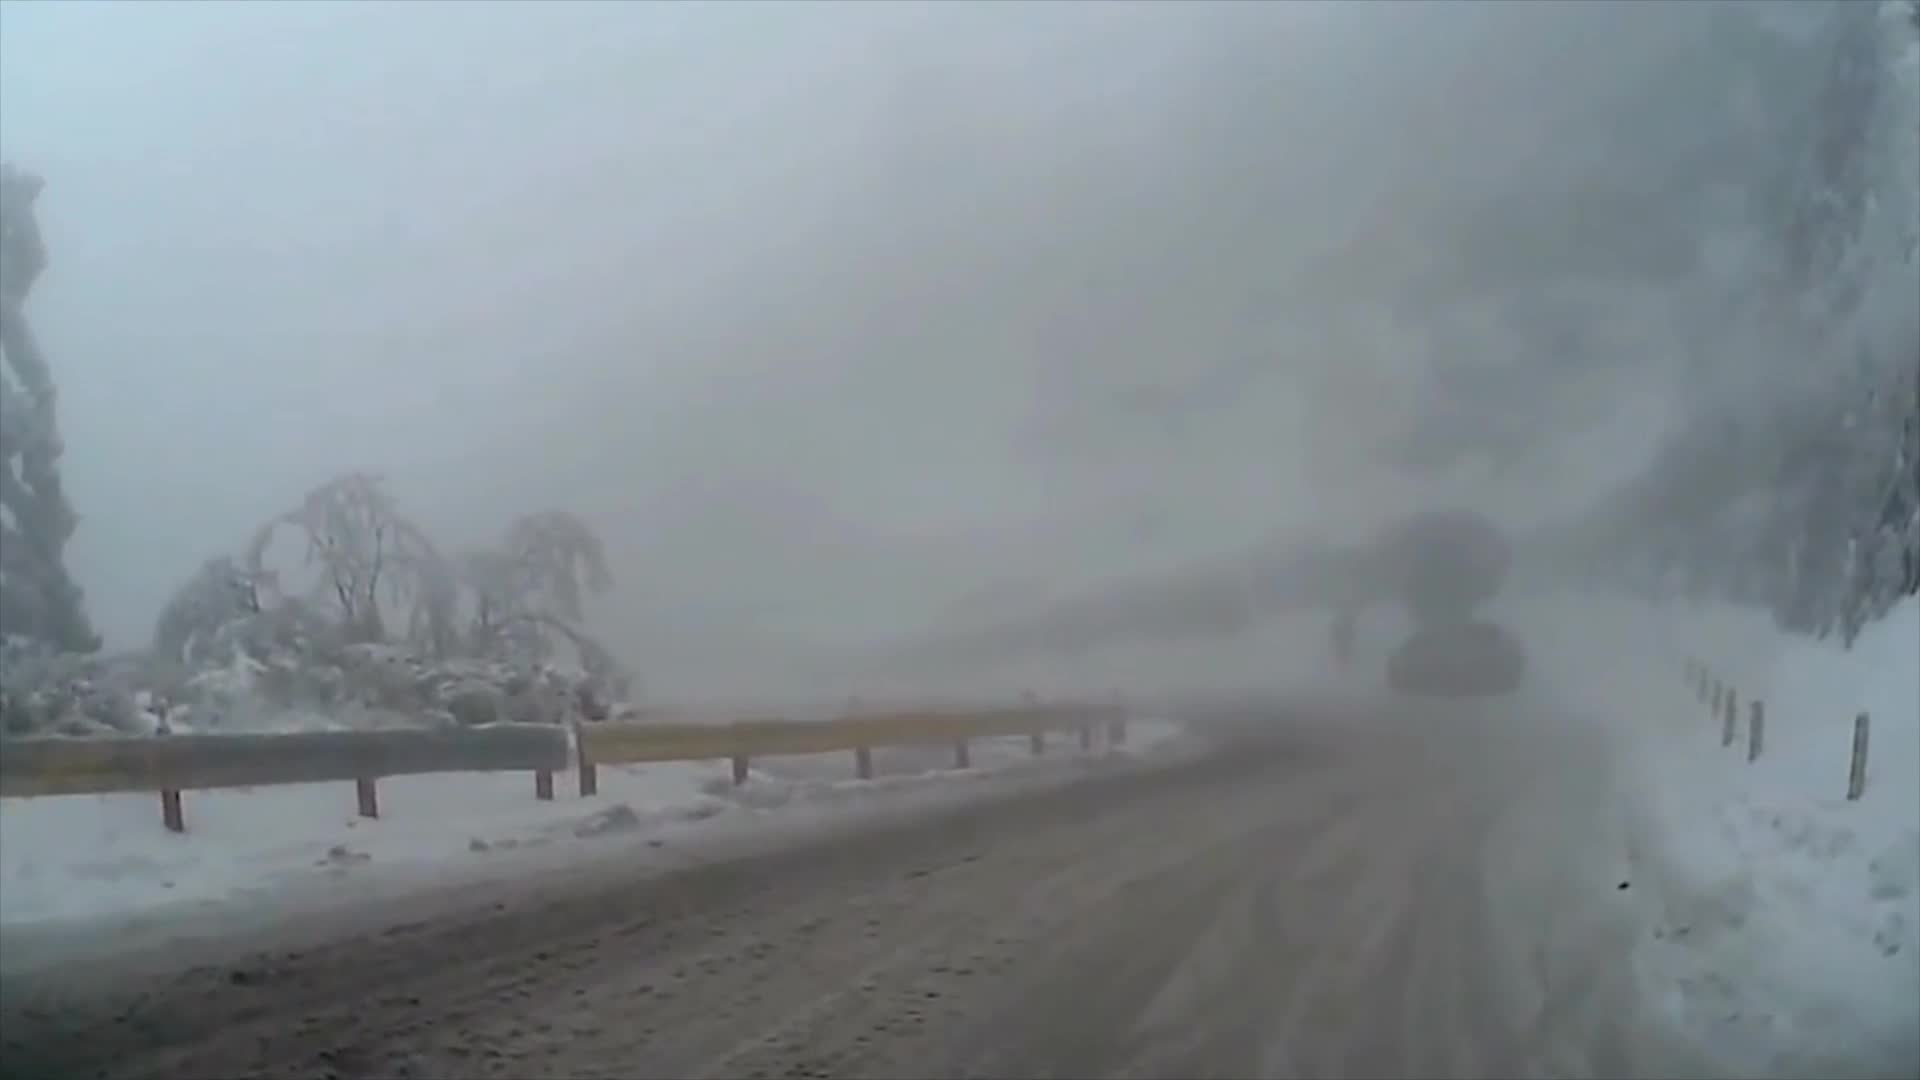vehicle: (1385, 622, 1524, 699)
